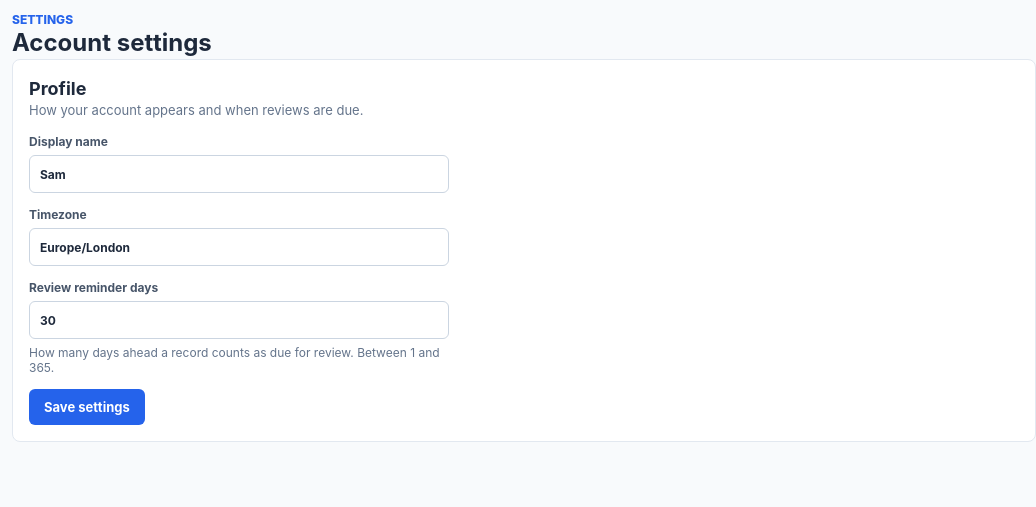
it: settings page › saves changes and confirms
Replace the text in the field labelled "Display name" with "Sammy" at (239, 174), box [29,155,449,193]
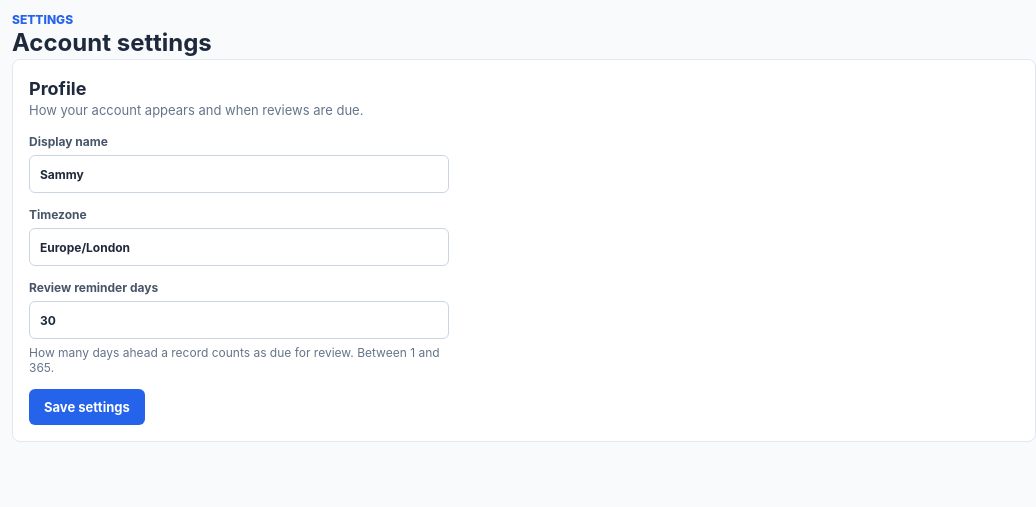
Click the button "Save settings" at (87, 407), box [29,389,145,425]
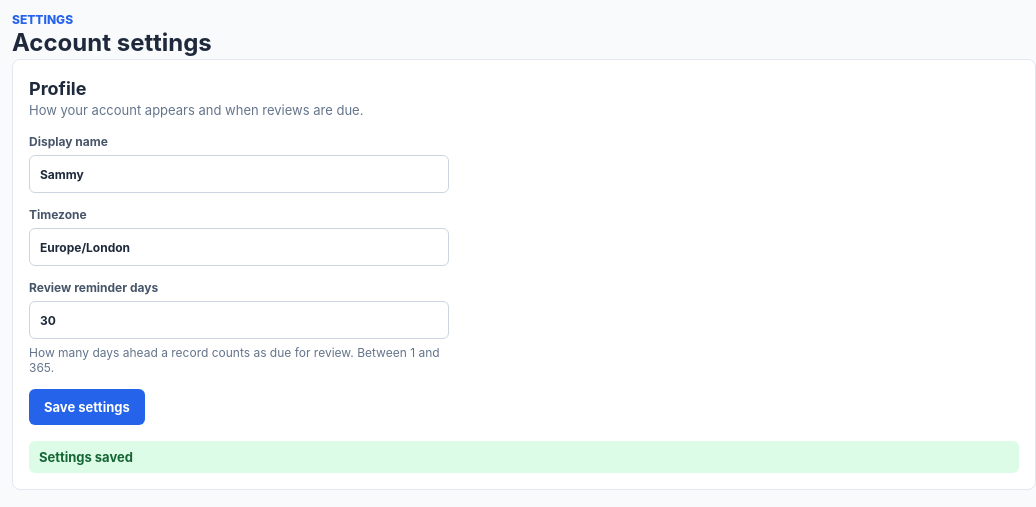
Expected: the text "Settings saved" is shown, [29,441,1019,473]
